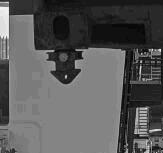twist_lock_2: (40, 43, 87, 90)
